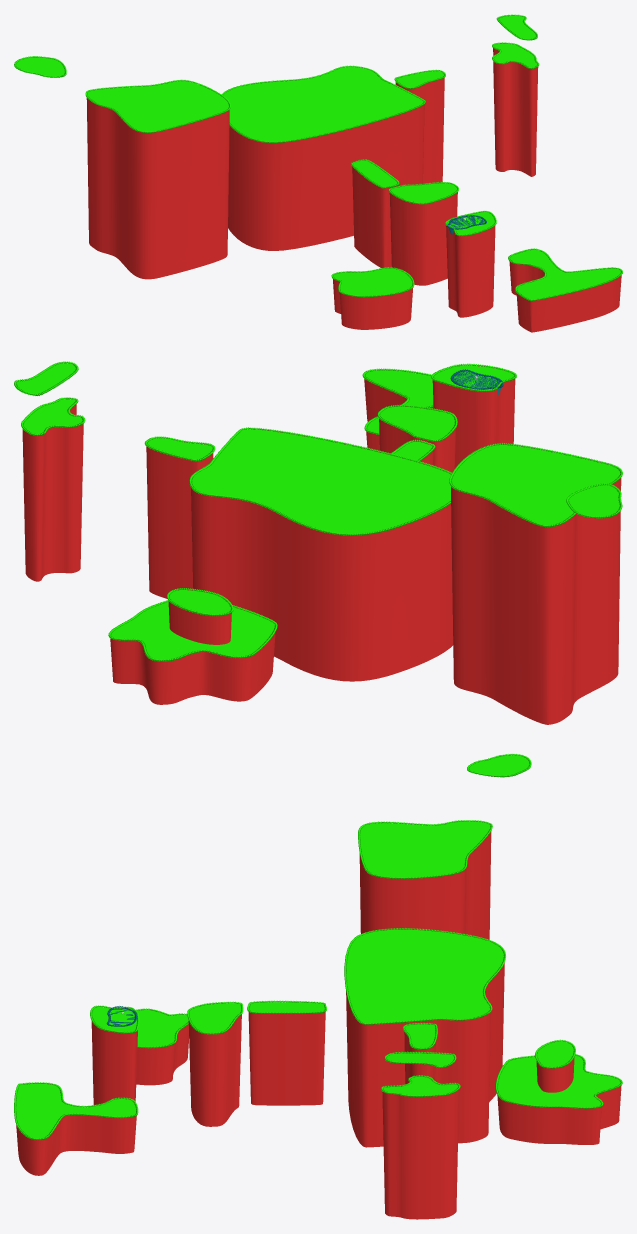
The model's file is Level1.fbx.
The picture shows the model from 3 angles, top to bottom: view 1: azimuth 30°, elevation 25°; view 2: azimuth 150°, elevation 25°; view 3: azimuth 270°, elevation 25°; orthographic projection. The views are drawn at different scales.
Parts seen in each view (by area): view 1: Lv1_4, Lv1_8, Lv1_4T, Lv1_10, Lv1_2, Lv1_6, Lv1_1, Lv1_11, Lv1_3, Lv1_8T, Lv1_5, Lv1_10T (+4 smaller); view 2: Lv1_4, Lv1_8, Lv1_12, Lv1_6, Lv1_4T, Lv1_5, Lv1_1, Lv1_8T, Lv1_2, Lv1_10, Lv1_13, Lv1_12T (+12 smaller); view 3: Lv1_4, Lv1_8, Lv1_6, Lv1_4T, Lv1_12, Lv1_3, Lv1_10, Lv1_2, Lv1_1, Lv1_11, Lv1_8T, Lv1_12T (+7 smaller).
Part boxes in pixels (x1,y1,x2,y2): Lv1_4: (221, 65, 425, 250); Lv1_8: (85, 79, 230, 279); Lv1_4T: (224, 67, 422, 141); Lv1_10: (508, 248, 622, 332); Lv1_2: (388, 182, 458, 285); Lv1_6: (492, 42, 539, 176); Lv1_1: (445, 211, 496, 317); Lv1_11: (331, 267, 414, 329); Lv1_3: (351, 159, 399, 267); Lv1_8T: (87, 81, 228, 131); Lv1_5: (394, 69, 445, 183); Lv1_10T: (510, 250, 620, 299); Lv1_4: (189, 427, 453, 681); Lv1_8: (449, 443, 622, 724); Lv1_12: (108, 600, 277, 704); Lv1_6: (21, 397, 85, 581); Lv1_4T: (192, 429, 450, 533); Lv1_5: (144, 436, 215, 598); Lv1_1: (431, 363, 516, 468); Lv1_8T: (452, 445, 619, 525); Lv1_2: (377, 405, 457, 472); Lv1_10: (362, 368, 433, 450); Lv1_13: (167, 588, 233, 644); Lv1_12T: (111, 602, 274, 659); Lv1_4: (344, 928, 505, 1147); Lv1_8: (358, 820, 492, 939); Lv1_6: (381, 1075, 460, 1219); Lv1_4T: (347, 929, 503, 1023); Lv1_12: (495, 1054, 622, 1144); Lv1_3: (247, 1000, 326, 1105); Lv1_10: (14, 1082, 138, 1175); Lv1_2: (187, 1001, 243, 1126); Lv1_1: (90, 1005, 139, 1104); Lv1_11: (136, 1008, 189, 1085); Lv1_8T: (361, 821, 489, 877); Lv1_12T: (498, 1056, 620, 1106).
Size of the model in its own units: 41586 by 15037 by 40402.
